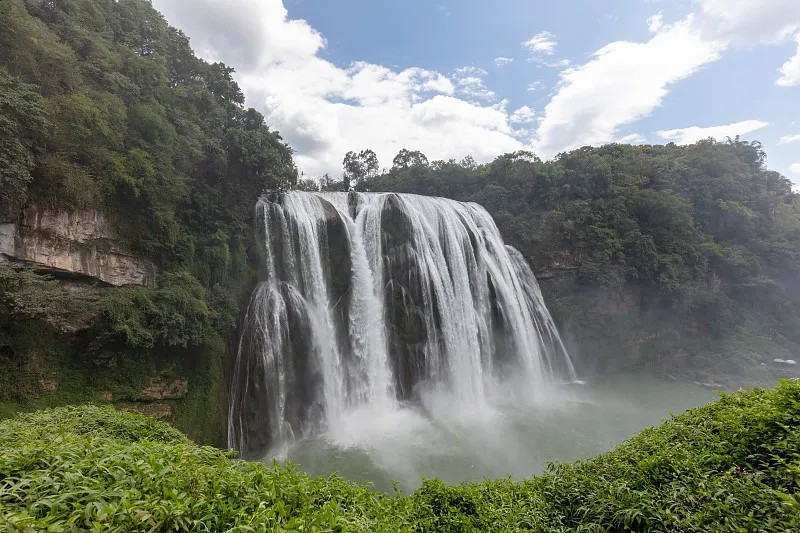Huangguoshu: (230, 191, 580, 449)
